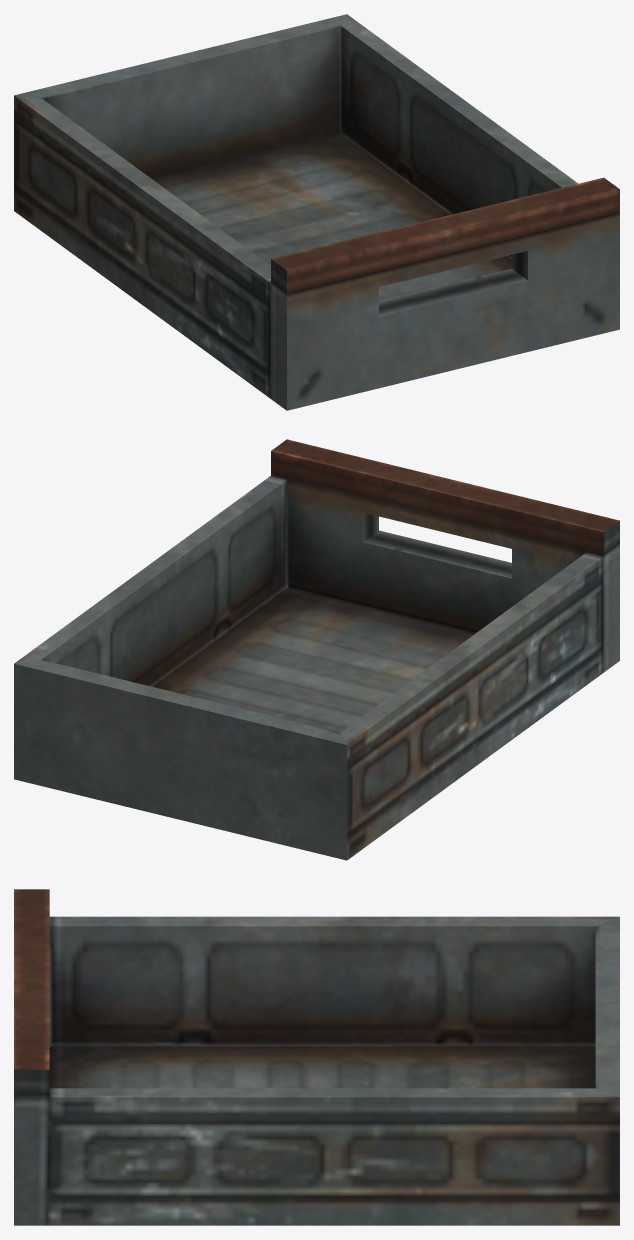
The model's file is desk_work_cabin_box.dae.
3 views of the same model, one above another, from view 1: azimuth 30°, elevation 25°; view 2: azimuth 150°, elevation 25°; view 3: azimuth 270°, elevation 25° (orthographic). The views are drawn at different scales.
Parts seen in each view (by area): view 1: box_6; view 2: box_6; view 3: box_6.
Boxes of the visible parts, x1,y1,x2,y2 form: box_6: (14,14,619,410); box_6: (14,439,619,860); box_6: (14,889,619,1225).
Bounding box in the file's own units: 0.6193 × 0.2492 × 0.879.
1 material, 1 textured.
